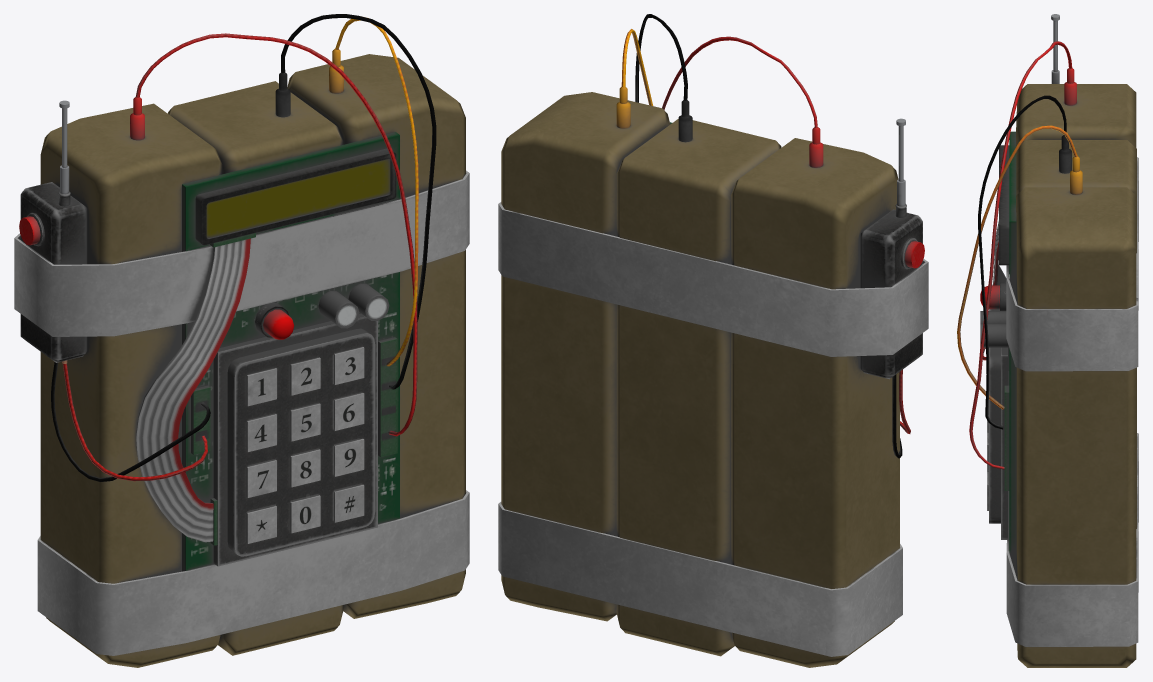
The model's file is ExplosiveDeviceC4.fbx.
3 views of the same model, side by side, from view 1: azimuth 30°, elevation 25°; view 2: azimuth 150°, elevation 25°; view 3: azimuth 270°, elevation 25° (orthographic). The views are drawn at different scales.
Visible parts, largest first — view 1: ExplosiveDeviceC4; view 2: ExplosiveDeviceC4; view 3: ExplosiveDeviceC4.
Part boxes in pixels (box(x1,y1,x2,y2)): ExplosiveDeviceC4: box(14, 14, 469, 667); ExplosiveDeviceC4: box(498, 14, 928, 667); ExplosiveDeviceC4: box(957, 14, 1138, 667).
Bounding box in the file's own units: 29.87 × 42.05 × 13.12.
